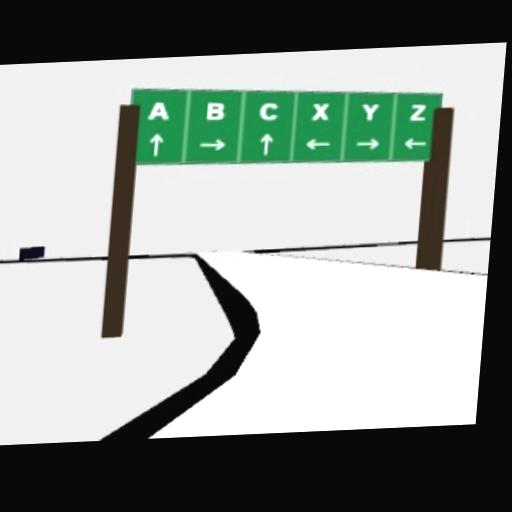A: (147, 101, 170, 120)
B: (204, 102, 224, 120)
C: (259, 101, 279, 121)
Left: (403, 136, 428, 150), (303, 137, 332, 149)
Right: (197, 137, 226, 151), (354, 137, 379, 151)
Straight: (147, 132, 164, 157), (259, 132, 274, 155)
X: (310, 102, 329, 121)
Y: (360, 103, 379, 122)
Z: (409, 103, 428, 121)
